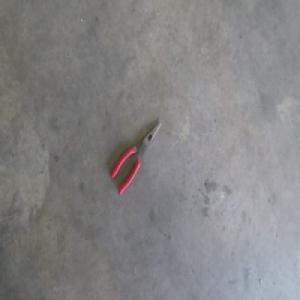Pliers: (111, 119, 162, 195)
